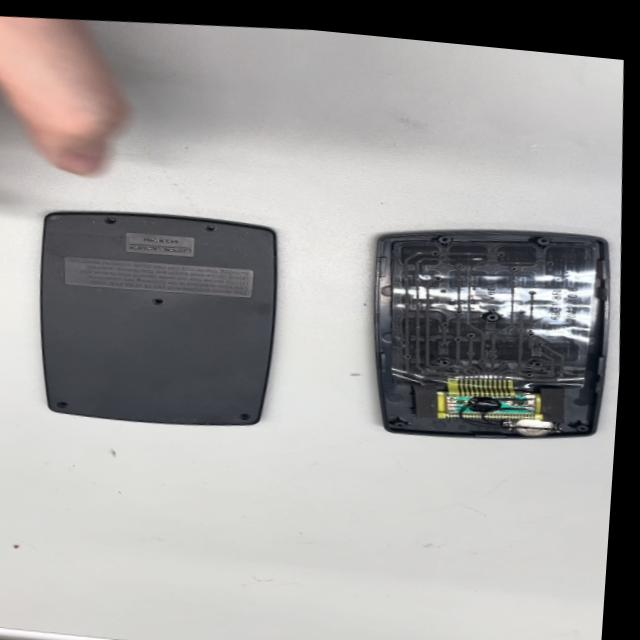back_cover: (13, 186, 301, 451)
front_panel: (324, 206, 629, 468)
